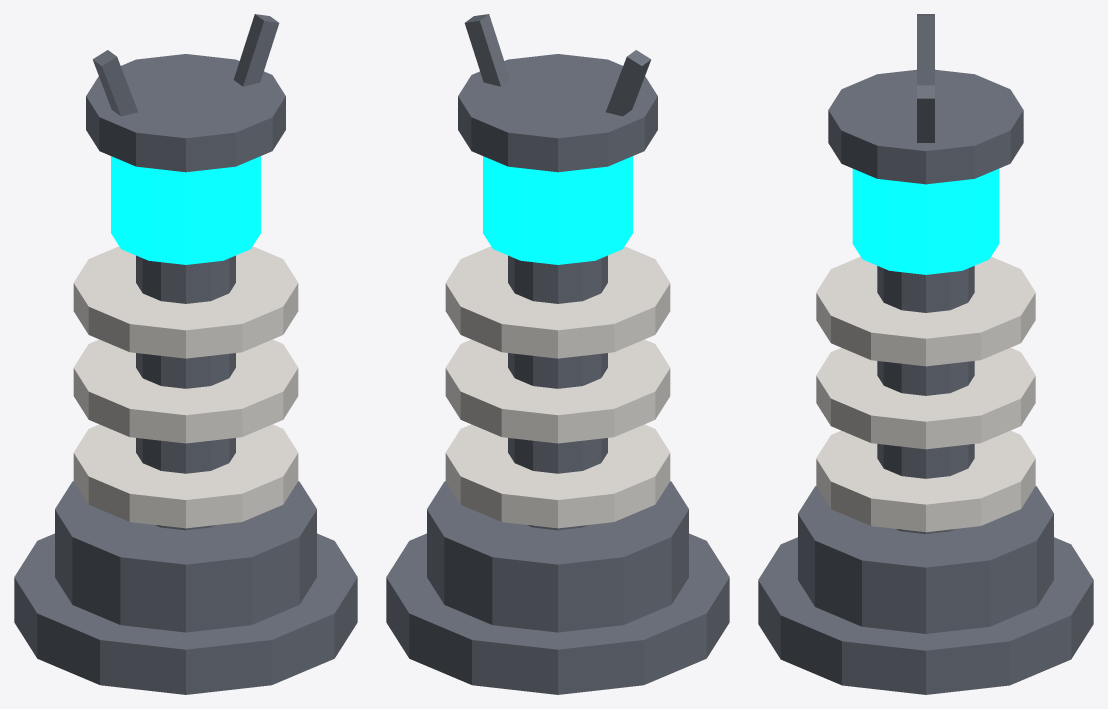
Rendered from arc_calibration_coil.glb.
The picture shows the model from 3 angles, left to right: view 1: azimuth 30°, elevation 25°; view 2: azimuth 150°, elevation 25°; view 3: azimuth 270°, elevation 25°; orthographic projection. The views are drawn at different scales.
Visible parts, largest first — view 1: Base_Cone, Base_Plate, Top_Cap, Ceramic_Ring_1.15, Ceramic_Ring_0.85, Ceramic_Ring_0.55, Arc_Core, Pillar_Shaft, Prong_R, Prong_L; view 2: Base_Cone, Base_Plate, Top_Cap, Ceramic_Ring_1.15, Ceramic_Ring_0.85, Ceramic_Ring_0.55, Arc_Core, Pillar_Shaft, Prong_R, Prong_L; view 3: Base_Cone, Base_Plate, Top_Cap, Ceramic_Ring_1.15, Ceramic_Ring_0.55, Ceramic_Ring_0.85, Arc_Core, Pillar_Shaft, Prong_L, Prong_R.
Part boxes in pixels (x1=…): Base_Cone: x1=55, y1=481, x2=316, y2=632; Base_Plate: x1=14, y1=533, x2=357, y2=694; Top_Cap: x1=86, y1=54, x2=285, y2=172; Ceramic_Ring_1.15: x1=73, y1=246, x2=298, y2=358; Ceramic_Ring_0.85: x1=73, y1=339, x2=298, y2=443; Ceramic_Ring_0.55: x1=73, y1=424, x2=298, y2=528; Arc_Core: x1=111, y1=156, x2=260, y2=264; Pillar_Shaft: x1=136, y1=255, x2=235, y2=530; Prong_R: x1=233, y1=14, x2=279, y2=86; Prong_L: x1=92, y1=50, x2=137, y2=116; Base_Cone: x1=427, y1=481, x2=688, y2=632; Base_Plate: x1=386, y1=533, x2=729, y2=694; Top_Cap: x1=458, y1=54, x2=657, y2=172; Ceramic_Ring_1.15: x1=445, y1=246, x2=670, y2=358; Ceramic_Ring_0.85: x1=445, y1=339, x2=670, y2=443; Ceramic_Ring_0.55: x1=445, y1=424, x2=670, y2=528; Arc_Core: x1=483, y1=156, x2=632, y2=264; Pillar_Shaft: x1=508, y1=255, x2=607, y2=530; Prong_R: x1=464, y1=14, x2=510, y2=86; Prong_L: x1=606, y1=50, x2=651, y2=116; Base_Cone: x1=798, y1=486, x2=1053, y2=633; Base_Plate: x1=758, y1=537, x2=1093, y2=694; Top_Cap: x1=828, y1=69, x2=1023, y2=184; Ceramic_Ring_1.15: x1=816, y1=256, x2=1035, y2=366; Ceramic_Ring_0.55: x1=816, y1=430, x2=1035, y2=532; Ceramic_Ring_0.85: x1=816, y1=347, x2=1035, y2=449; Arc_Core: x1=852, y1=169, x2=999, y2=274; Pillar_Shaft: x1=877, y1=266, x2=974, y2=533; Prong_L: x1=917, y1=14, x2=934, y2=84; Prong_R: x1=917, y1=85, x2=934, y2=142.
Size of the model in its own units: 1.1 by 2.07 by 1.1.
